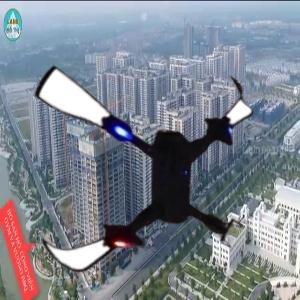drone: (4, 31, 269, 296)
